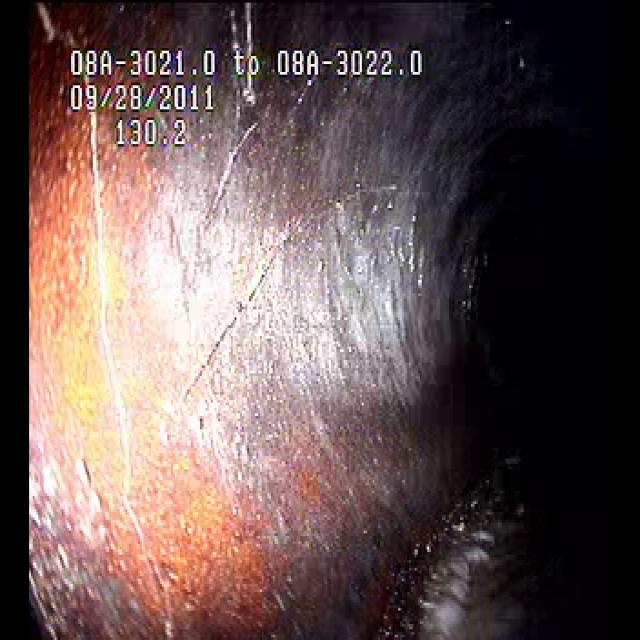Crack: (78, 206, 320, 590)
